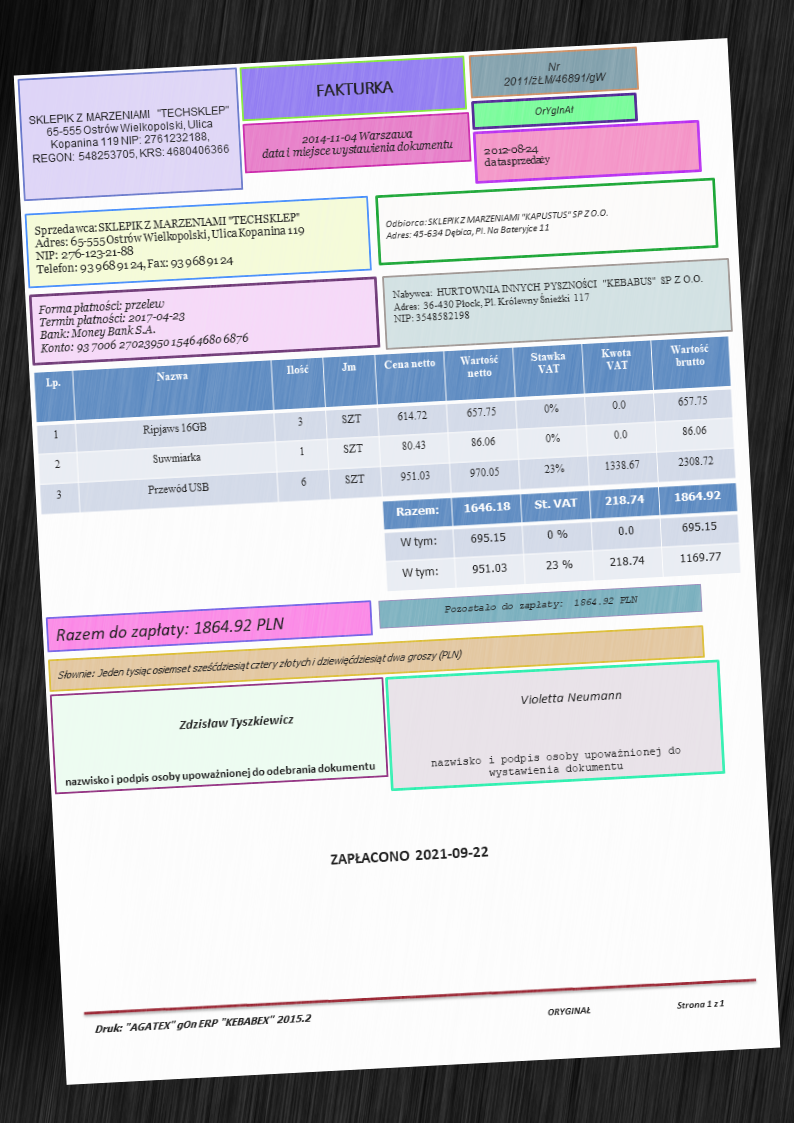Table: (31, 334, 736, 516), (380, 482, 741, 593)
TextBox: (30, 206, 309, 279), (388, 271, 706, 328), (54, 646, 464, 684), (35, 289, 252, 358), (25, 101, 232, 168), (427, 741, 687, 783), (60, 757, 378, 790), (382, 203, 609, 243), (51, 613, 286, 649), (258, 125, 456, 164), (90, 1008, 316, 1039), (439, 592, 640, 616), (542, 994, 729, 1019), (327, 842, 493, 868), (499, 55, 610, 91), (176, 708, 296, 734), (516, 685, 623, 709), (479, 139, 552, 173), (313, 77, 397, 101), (532, 102, 577, 120)
